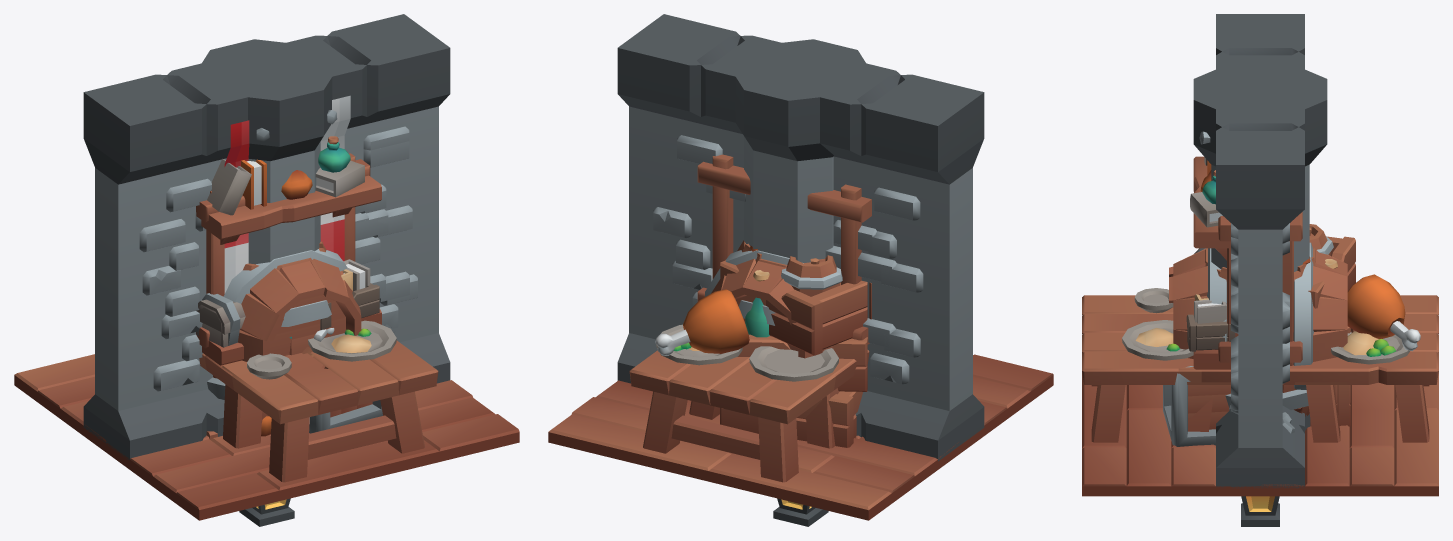
The model's file is props.glb.
3 views of the same model, side by side, from view 1: azimuth 30°, elevation 25°; view 2: azimuth 150°, elevation 25°; view 3: azimuth 270°, elevation 25° (orthographic). The views are drawn at different scales.
Visible parts, largest first — view 1: wall, wall_shelves, wall_window_closed, floor_wood_large, pillar, table_long_decorated_A, table_long, keg, banner_patternA_red, table_medium, barrel_large, crates_stacked (+1 smaller); view 2: wall_shelves, floor_wood_large, wall, table_long_decorated_A, pillar, wall_window_closed, crates_stacked, table_long, keg, table_medium, lantern_hanging, barrel_large; view 3: wall_shelves, floor_wood_large, wall, table_long_decorated_A, table_long, keg, pillar, crates_stacked, wall_window_closed, table_medium, lantern_hanging, barrel_large.
Boxes of the visible parts, x1,y1,x2,y2 form: wall: [83, 14, 450, 458]; wall_shelves: [83, 14, 449, 460]; wall_window_closed: [118, 107, 438, 410]; floor_wood_large: [14, 354, 519, 520]; pillar: [194, 39, 339, 264]; table_long_decorated_A: [200, 320, 438, 482]; table_long: [223, 340, 437, 482]; keg: [223, 249, 361, 361]; banner_patternA_red: [224, 95, 350, 293]; table_medium: [199, 355, 268, 448]; barrel_large: [207, 241, 331, 399]; crates_stacked: [261, 400, 382, 436]; wall_shelves: [617, 14, 984, 458]; floor_wood_large: [548, 354, 1053, 520]; wall: [618, 14, 979, 461]; table_long_decorated_A: [629, 270, 868, 482]; pillar: [729, 39, 865, 262]; wall_window_closed: [653, 154, 923, 384]; crates_stacked: [720, 245, 871, 447]; table_long: [629, 350, 854, 482]; keg: [705, 250, 832, 358]; table_medium: [689, 350, 869, 448]; lantern_hanging: [773, 498, 828, 526]; barrel_large: [737, 240, 840, 325]; wall_shelves: [1186, 14, 1304, 488]; floor_wood_large: [1082, 353, 1438, 496]; wall: [1216, 14, 1304, 487]; table_long_decorated_A: [1082, 259, 1438, 442]; table_long: [1082, 295, 1438, 421]; keg: [1169, 242, 1347, 413]; pillar: [1193, 65, 1327, 430]; crates_stacked: [1163, 224, 1355, 446]; wall_window_closed: [1218, 212, 1302, 433]; table_medium: [1173, 367, 1347, 442]; lantern_hanging: [1241, 496, 1279, 526]; barrel_large: [1205, 248, 1315, 416].
Size of the model in its own units: 4 by 5.31 by 4.
3 materials, 3 textured.
